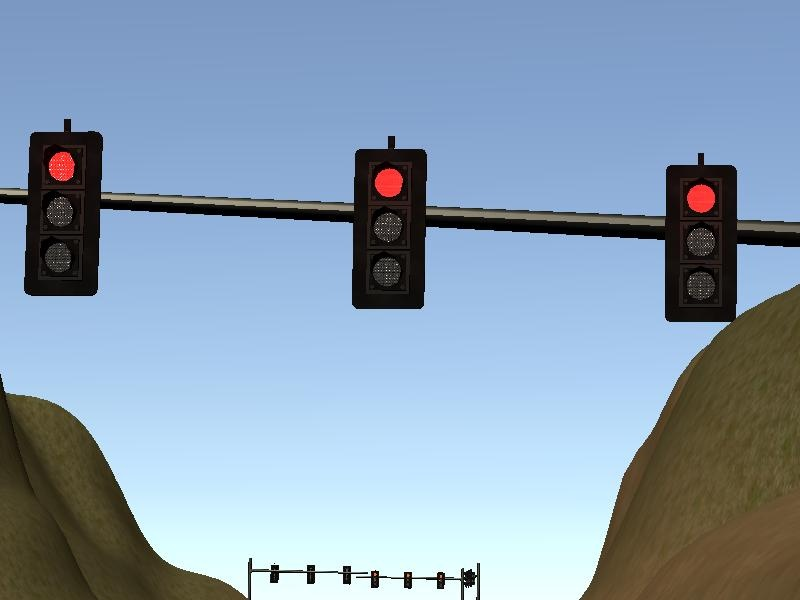RED: (22, 133, 102, 295), (347, 149, 427, 311), (659, 164, 739, 326)
